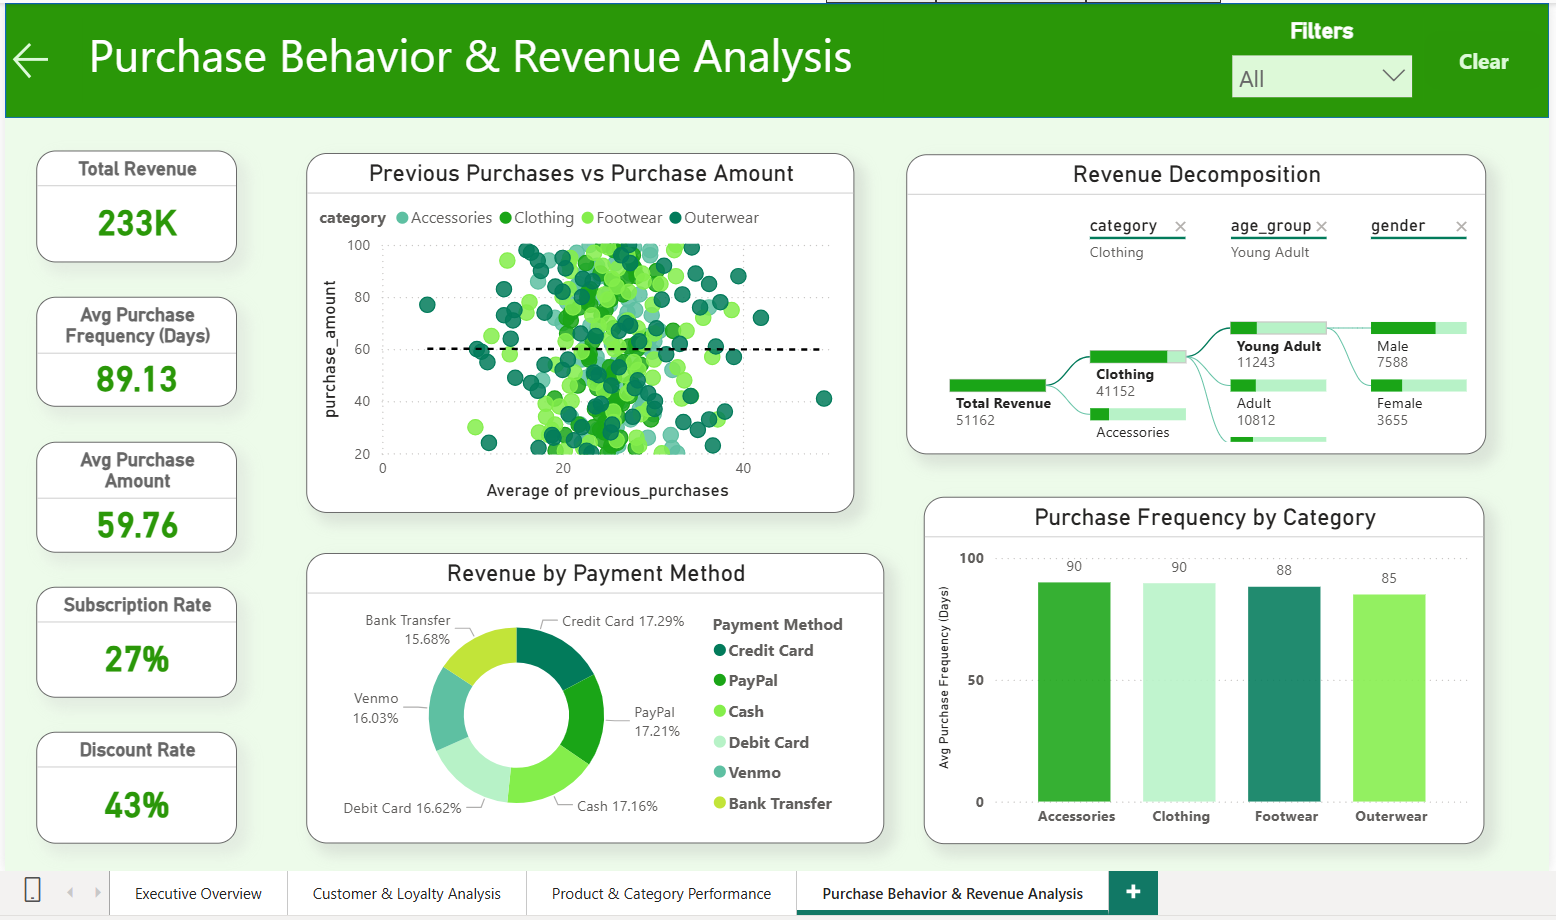

The page's visual inventory and layout, read from the dashboard file:
{"tool":"powerbi","page":{"name":"Purchase Behavior & Revenue Analysis","canvas":[1280,720],"ordinal":3},"visuals":[{"type":"card","title":"Total Revenue","fields":{"Values":["customer_behaviour customer.Total Revenue"]},"box":[25.8,122.7,166.7,92.4],"z":0},{"type":"card","title":"Avg Purchase Frequency (Days)","fields":{"Values":["customer_behaviour customer.Avg Purchase Frequency"]},"box":[25.8,243.8,166.7,90.9],"z":1000},{"type":"card","title":"Avg Purchase Amount","fields":{"Values":["customer_behaviour customer.Avg purchase amount"]},"box":[25.8,363.3,166.7,92],"z":2000},{"type":"card","title":"Subscription Rate","fields":{"Values":["customer_behaviour customer.Subscription Rate"]},"box":[25.8,483.9,166.7,92],"z":3000},{"type":"card","title":"Discount Rate","fields":{"Values":["customer_behaviour customer.Discount Rate"]},"box":[25.8,604.5,166.7,92.4],"z":4000},{"type":"shape","box":[0,0,1280.3,95.5],"z":5000},{"type":"textbox","box":[64.5,12.4,664.1,70.8],"z":6000},{"type":"scatterChart","title":"Previous Purchases vs Purchase Amount","fields":{"X":["customer_behaviour customer.previous_purchases"],"Y":["customer_behaviour customer.purchase_amount"],"Series":["customer_behaviour customer.category"]},"box":[250,124.2,454.5,298.5],"z":7000},{"type":"donutChart","title":"Revenue by Payment Method","fields":{"Category":["customer_behaviour customer.payment_method"],"Y":["customer_behaviour customer.Total Revenue"]},"box":[250,455.8,479.1,240.7],"z":9000},{"type":"clusteredColumnChart","title":"Purchase Frequency by Category","fields":{"Category":["customer_behaviour customer.category"],"Y":["customer_behaviour customer.Avg Purchase Frequency"]},"box":[762.1,409.1,465.2,287.9],"z":10000},{"type":"slicer","title":"Filters","fields":{"Values":["customer_behaviour customer.age_group","customer_behaviour customer.gender","customer_behaviour customer.category","customer_behaviour customer.subscription_status"]},"box":[1007,12.7,169,70.4],"z":11000},{"type":"actionButton","box":[1176.1,22.5,100,49.3],"z":12000},{"type":"actionButton","box":[2.3,27.9,45.3,39.5],"z":14000},{"type":"decompositionTreeVisual","title":"Revenue Decomposition","fields":{"Analyze":["customer_behaviour customer.Total Revenue"],"ExplainBy":["customer_behaviour customer.category","customer_behaviour customer.age_group","customer_behaviour customer.gender","customer_behaviour customer.subscription_status","customer_behaviour customer.payment_method"]},"box":[747.5,125.8,480.5,249.2],"z":15000}]}

Visuals, with their boxes on the page's 1280x720 design canvas (x1, y1, x2, y2). These are canvas units, not pixel positions in the 1556x920 screenshot, which may show the page scaled, cropped or inside an application window:
"Total Revenue" card: x1=26 y1=123 x2=192 y2=215
"Avg Purchase Frequency (Days)" card: x1=26 y1=244 x2=192 y2=335
"Avg Purchase Amount" card: x1=26 y1=363 x2=192 y2=455
"Subscription Rate" card: x1=26 y1=484 x2=192 y2=576
"Discount Rate" card: x1=26 y1=604 x2=192 y2=697
shape: x1=0 y1=0 x2=1280 y2=96
textbox: x1=64 y1=12 x2=729 y2=83
"Previous Purchases vs Purchase Amount" scatterChart: x1=250 y1=124 x2=704 y2=423
"Revenue by Payment Method" donutChart: x1=250 y1=456 x2=729 y2=696
"Purchase Frequency by Category" clusteredColumnChart: x1=762 y1=409 x2=1227 y2=697
"Filters" slicer: x1=1007 y1=13 x2=1176 y2=83
actionButton: x1=1176 y1=22 x2=1276 y2=72
actionButton: x1=2 y1=28 x2=48 y2=67
"Revenue Decomposition" decompositionTreeVisual: x1=748 y1=126 x2=1228 y2=375
